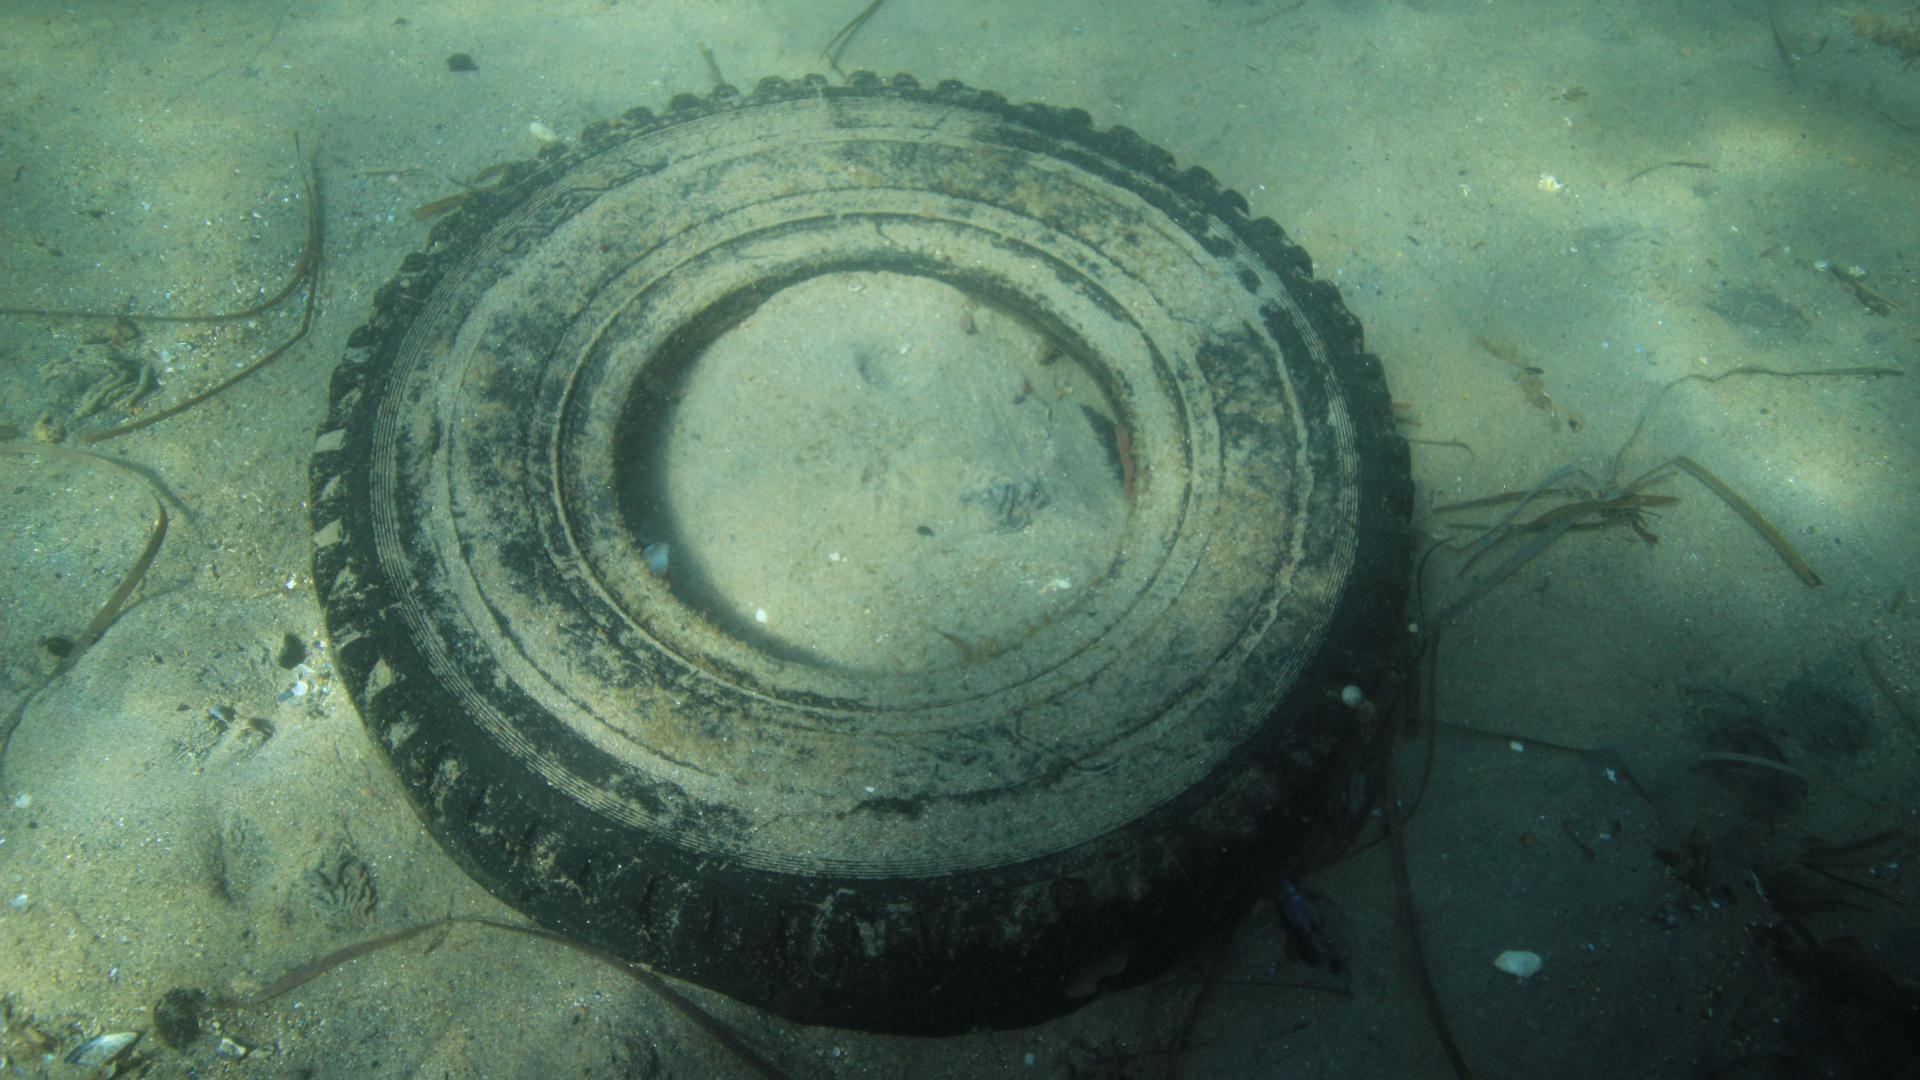tire: (307, 67, 1415, 1033)
